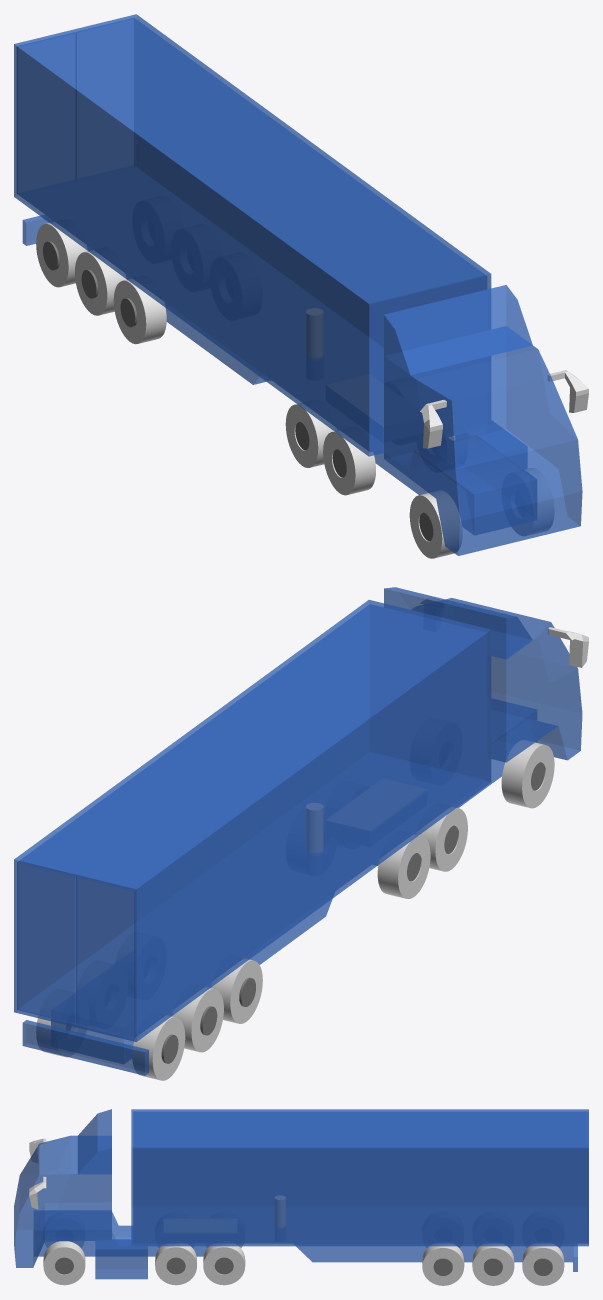
The model's file is G7Trailer.dae.
The picture shows the model from 3 angles, top to bottom: view 1: azimuth 30°, elevation 25°; view 2: azimuth 150°, elevation 25°; view 3: azimuth 270°, elevation 25°; orthographic projection. The views are drawn at different scales.
Visible parts, largest first — view 1: 挂.1, 车头, Tube (×6), Cube.1 (×2), 车顶, 后视镜, 油箱, Cylinder.2; view 2: 挂.1, Tube (×6), 车头, 门1.1, 门1, Cube.1 (×2), 车顶, 保险杠, 后视镜, Cylinder.2; view 3: 挂.1, 车头, Tube (×6), Cube.1 (×2), 油箱, 车顶, Cylinder.1 (×6), 后视镜, Cylinder.2.
Part boxes in pixels (bbox=[...]): 挂.1: bbox=[14, 14, 491, 456]; 车头: bbox=[384, 326, 582, 555]; Tube (×6): bbox=[36, 222, 554, 558]; Cube.1 (×2): bbox=[87, 246, 536, 535]; 车顶: bbox=[384, 285, 532, 374]; 后视镜: bbox=[420, 370, 588, 448]; 油箱: bbox=[456, 421, 526, 468]; Cylinder.2: bbox=[306, 308, 323, 358]; 挂.1: bbox=[14, 599, 491, 1041]; Tube (×6): bbox=[36, 740, 554, 1080]; 车头: bbox=[412, 598, 582, 762]; 门1.1: bbox=[17, 863, 75, 1024]; 门1: bbox=[76, 877, 133, 1038]; Cube.1 (×2): bbox=[51, 698, 536, 1064]; 车顶: bbox=[384, 587, 532, 659]; 保险杠: bbox=[22, 1020, 148, 1075]; 后视镜: bbox=[421, 597, 588, 667]; Cylinder.2: bbox=[306, 803, 323, 852]; 挂.1: bbox=[131, 1109, 588, 1246]; 车头: bbox=[14, 1135, 111, 1267]; Tube (×6): bbox=[43, 1241, 564, 1285]; Cube.1 (×2): bbox=[34, 1210, 573, 1262]; 油箱: bbox=[95, 1239, 147, 1279]; 车顶: bbox=[78, 1109, 111, 1174]; Cylinder.1 (×6): bbox=[55, 1257, 552, 1275]; 后视镜: bbox=[29, 1138, 46, 1209]; Cylinder.2: bbox=[275, 1195, 285, 1227].
Bounding box in the file's own units: 62.07 × 80.59 × 302.
